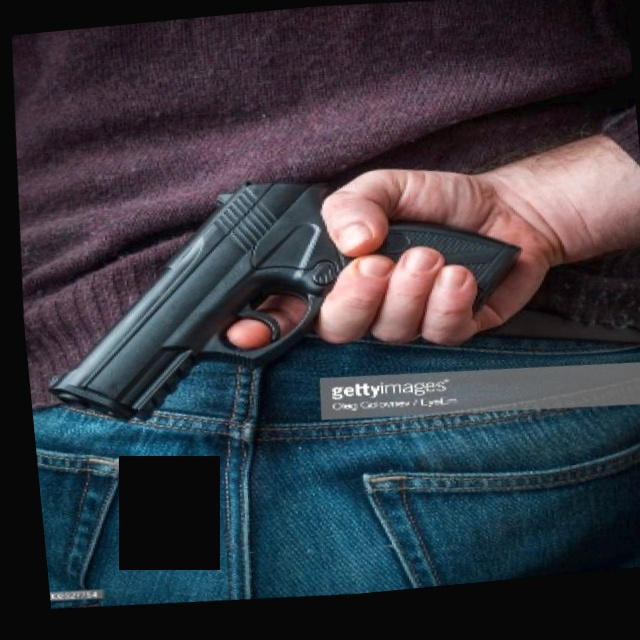gun: (19, 142, 539, 446)
